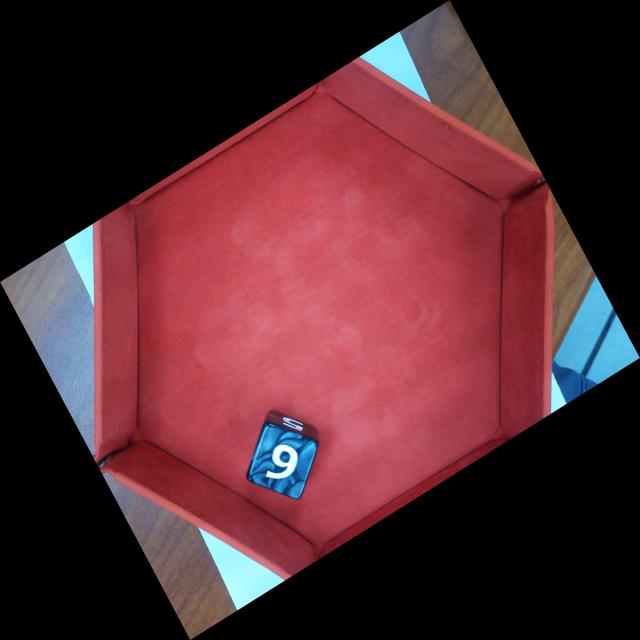dice: (244, 417, 321, 503)
